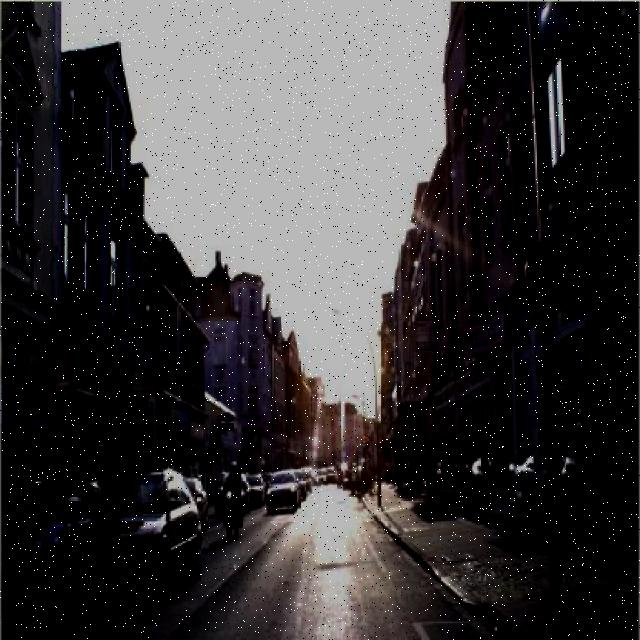Ograniczenie predkosci do 30: (523, 238, 571, 316)
